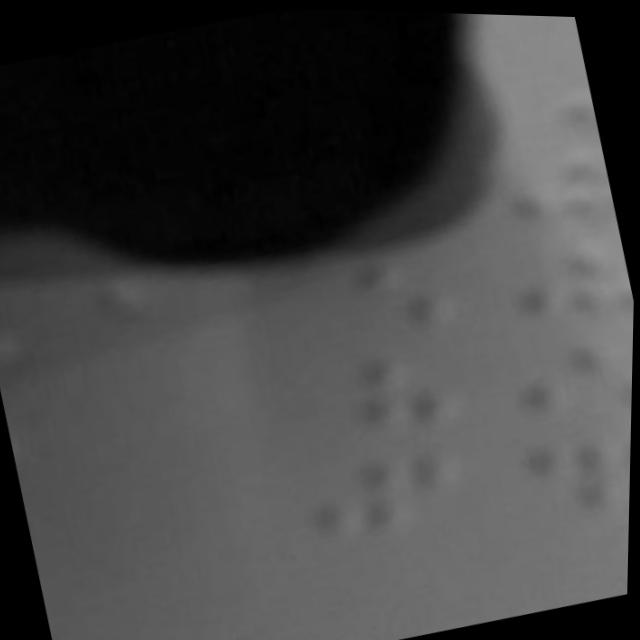braiile: (282, 236, 472, 364), (289, 429, 482, 550), (280, 335, 471, 456), (492, 319, 635, 442), (487, 229, 636, 345), (487, 133, 620, 247), (516, 409, 633, 523), (496, 52, 600, 146), (470, 11, 580, 57)
